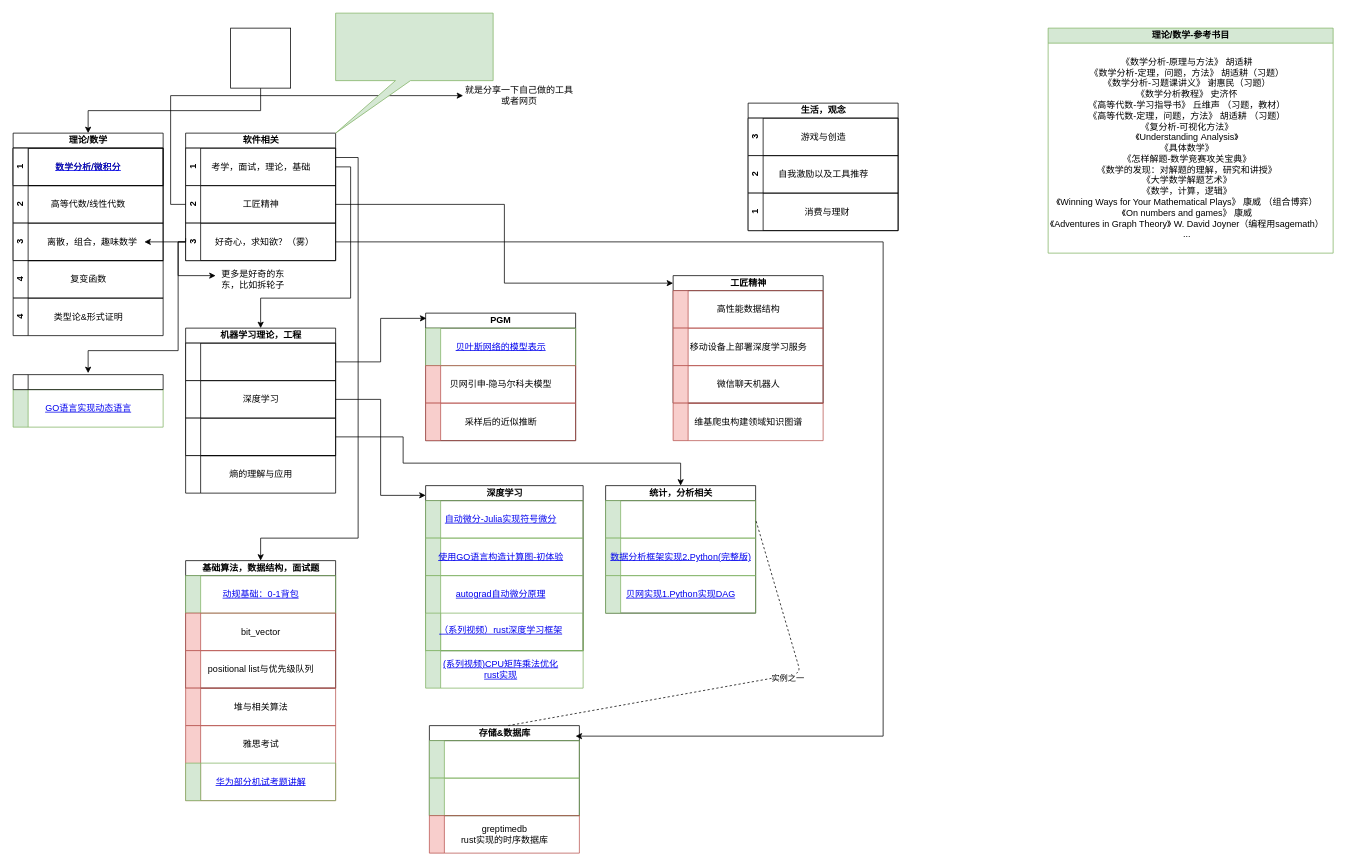
This 1346x866 diagram has some shape labels left out. The centre of each missing label's shape, as x and y in pixels:
"linux存储链路分析" belongs at [504,796].
"PGM-概率图模型" belongs at [260,361].
"Python实现超简易Redis" belongs at [504,759].
"全部视频" belongs at [260,57].
"另一种，基于具体内容分类 1.算法，数据结构 2.软件实现 3.基本理论 4.类库，框架使用 5.语言特性，设计模式" belongs at [414,72].
"数据分析框架实现1.Julia" belongs at [680,519].
"统计学习方法，数据分析" belongs at [260,436].
"编程语言" belongs at [87,382].
